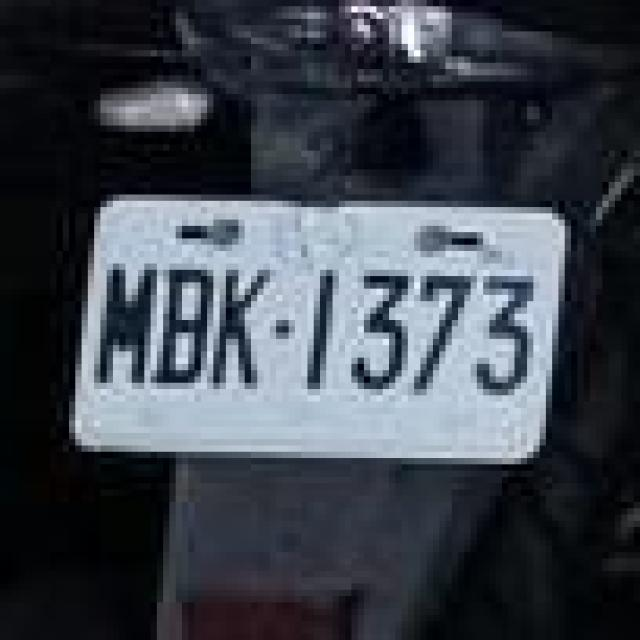W: (69, 157, 558, 489)
